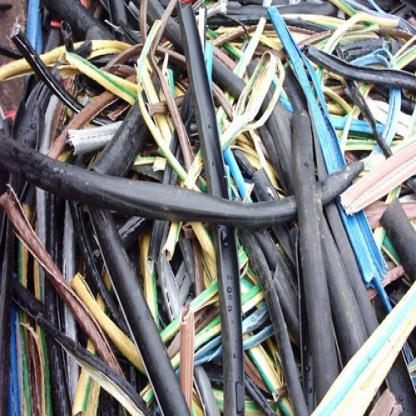wires: (1, 2, 415, 415)
